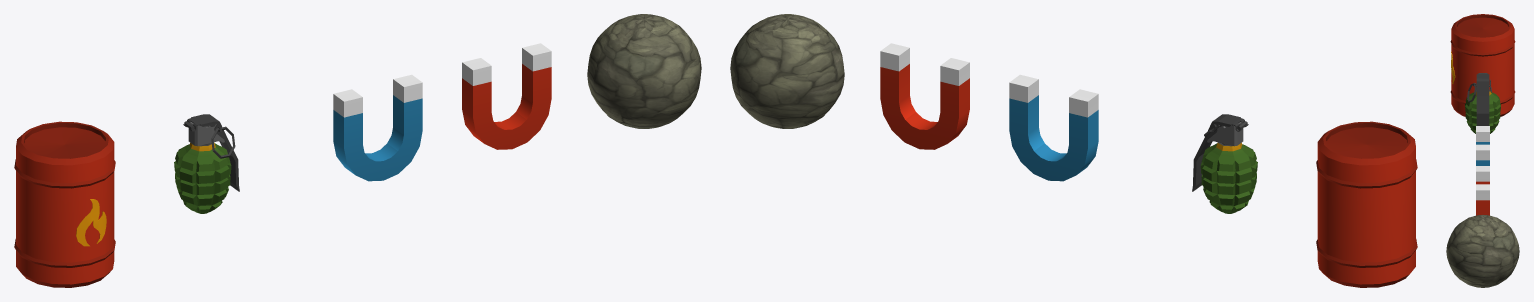
File: trap.fbx
3 renders of one model, left to right at view 1: azimuth 30°, elevation 25°; view 2: azimuth 150°, elevation 25°; view 3: azimuth 270°, elevation 25°, orthographic. The views are drawn at different scales.
Parts seen in each view (by area): view 1: barrel, Sphere, blue magnet, red magnet, grenade; view 2: barrel, Sphere, blue magnet, red magnet, grenade; view 3: barrel, Sphere, grenade, red magnet, blue magnet.
Boxes of the visible parts, x1,y1,x2,y2 form: barrel: [14, 121, 115, 287]; Sphere: [587, 14, 701, 128]; blue magnet: [333, 74, 422, 181]; red magnet: [462, 43, 551, 149]; grenade: [174, 114, 239, 213]; barrel: [1316, 121, 1417, 287]; Sphere: [730, 14, 844, 128]; blue magnet: [1009, 74, 1098, 181]; red magnet: [880, 43, 969, 149]; grenade: [1192, 114, 1257, 213]; barrel: [1450, 14, 1515, 116]; Sphere: [1446, 215, 1519, 287]; grenade: [1465, 73, 1500, 133]; red magnet: [1476, 166, 1489, 215]; blue magnet: [1476, 126, 1489, 165].
Bounding box in the file's own units: 11.3 × 2.07 × 1.68.
Materials: 2 (2 with a texture image).
